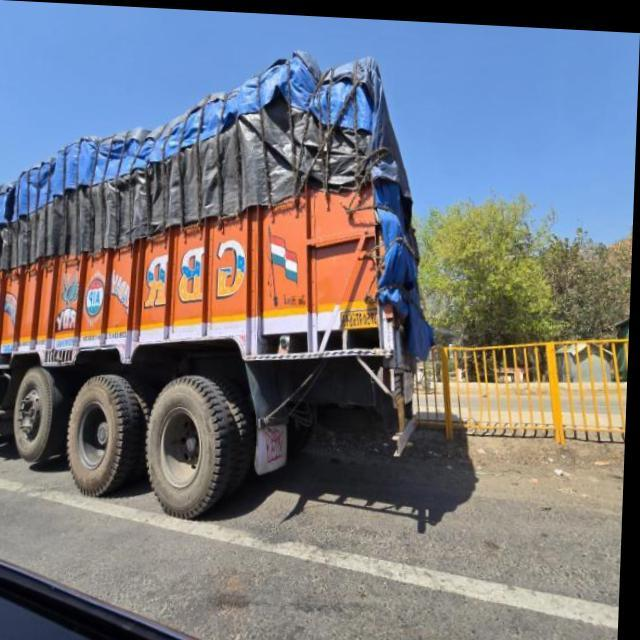covered: (0, 75, 442, 526)
